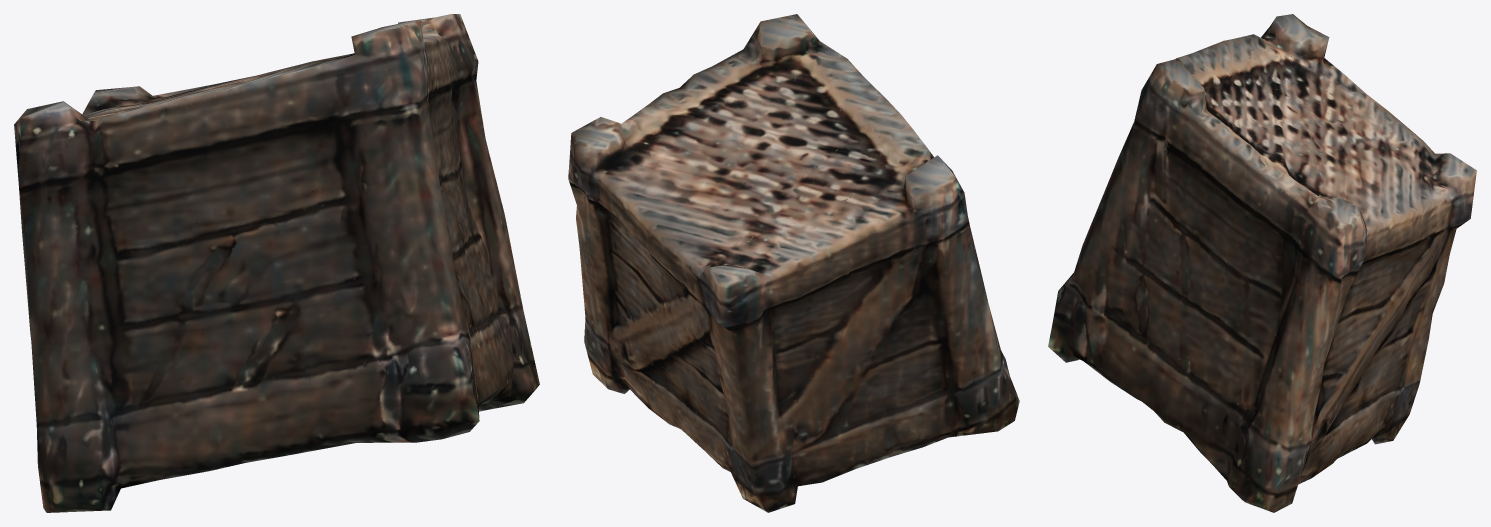
The model's file is runtime.glb.
3 renders of one model, left to right at view 1: azimuth 30°, elevation 25°; view 2: azimuth 150°, elevation 25°; view 3: azimuth 270°, elevation 25°, orthographic. The views are drawn at different scales.
Visible parts, largest first — view 1: Forge_crate; view 2: Forge_crate; view 3: Forge_crate.
Boxes of the visible parts, x1,y1,x2,y2 form: Forge_crate: (14, 14, 539, 512); Forge_crate: (568, 14, 1019, 512); Forge_crate: (1048, 14, 1476, 512).
Bounding box in the file's own units: 0.844 × 0.7962 × 0.7485.
1 material, 1 textured.
